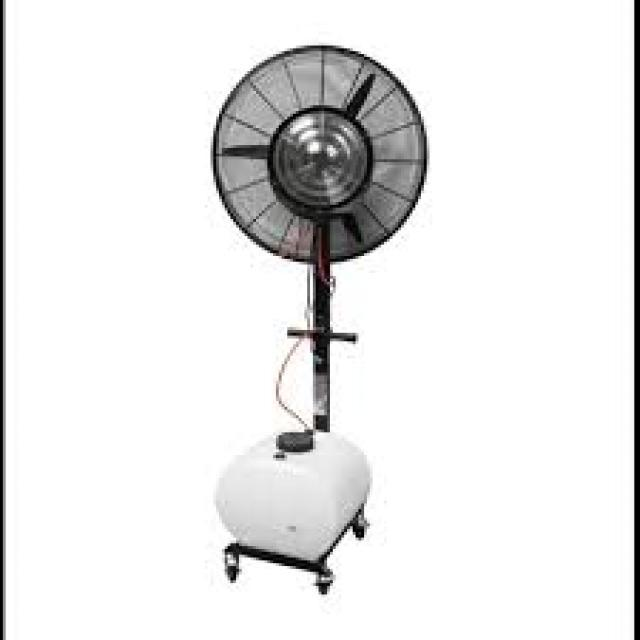fan: (148, 15, 456, 617)
